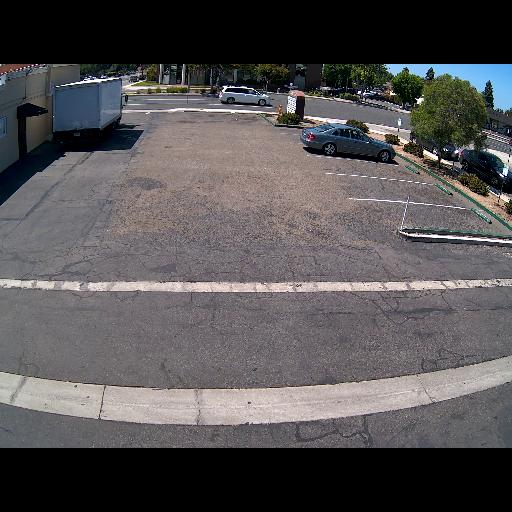car: (51, 77, 128, 144), (299, 122, 396, 163), (457, 145, 511, 193), (408, 122, 459, 162), (215, 84, 271, 106), (327, 87, 355, 98), (363, 91, 386, 102), (128, 74, 139, 85)
